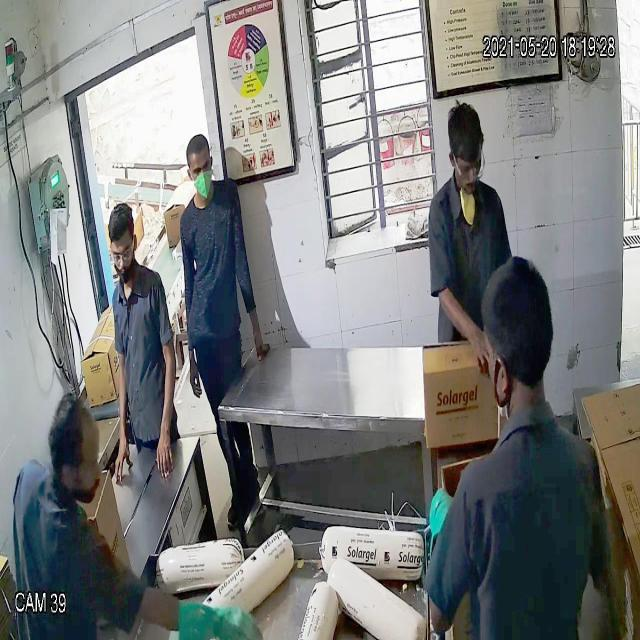glasses: (99, 237, 145, 267), (448, 145, 486, 179)
no-glass: (185, 159, 212, 182)
